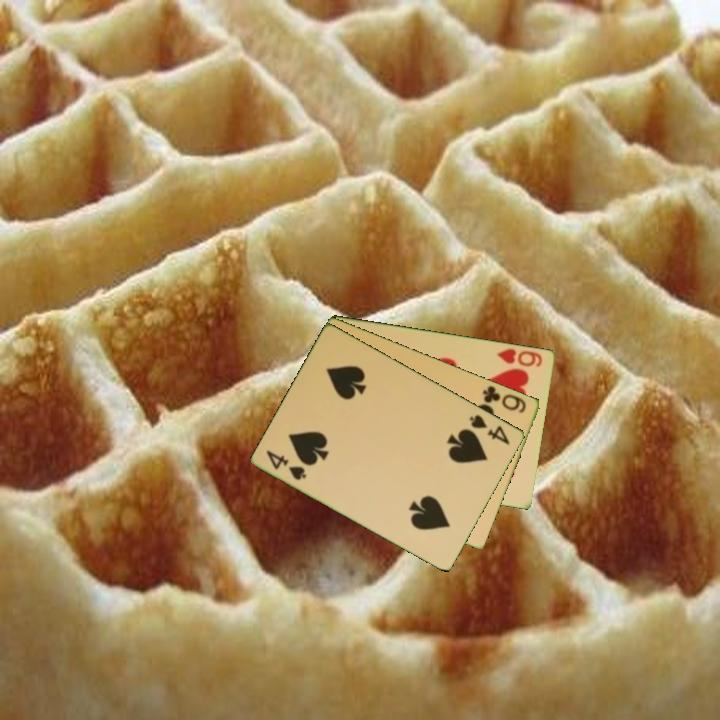4s: (263, 446, 310, 483), (466, 411, 513, 447)
6c: (479, 382, 530, 416)
6h: (493, 345, 545, 370)
